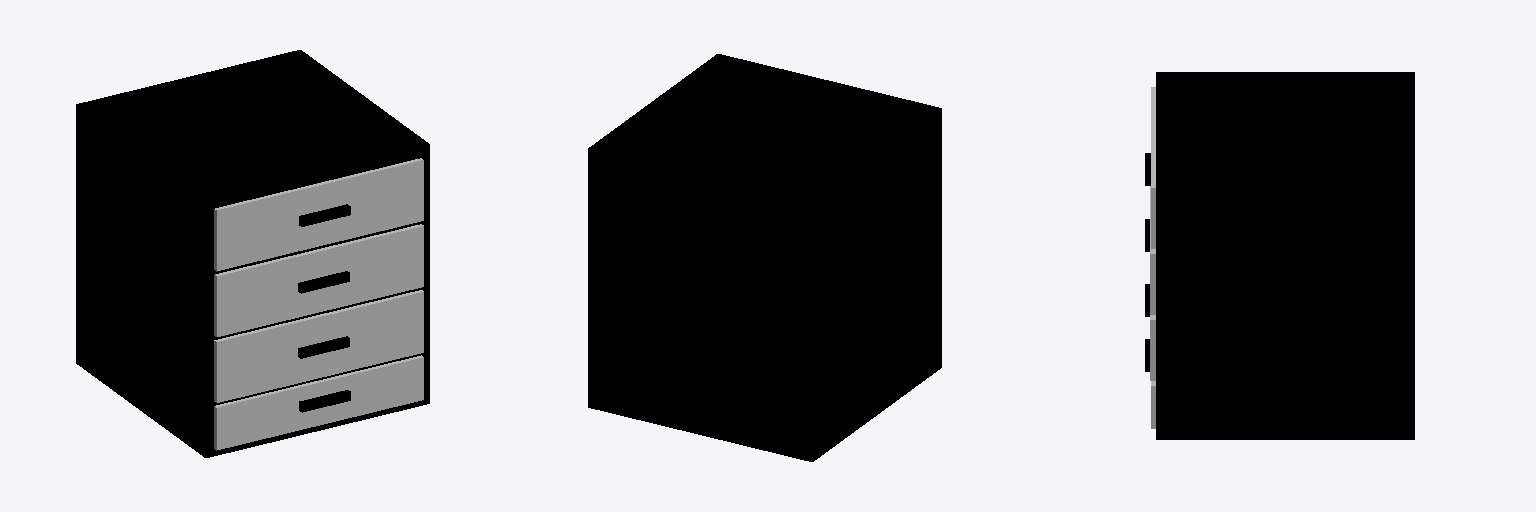
File: mueble.obj
3 views of the same model, side by side, from view 1: azimuth 30°, elevation 25°; view 2: azimuth 150°, elevation 25°; view 3: azimuth 270°, elevation 25° (orthographic).
Parts seen in each view (by area): view 1: Cubo, Cubo.002_Cubo.006, Cubo.001_Cubo.005, Cubo.004_Cubo.009, Cubo.003_Cubo.007, Cubo.005_Cubo.008, Cubo.008_Cubo.012, Cubo.006_Cubo.010, Cubo.007_Cubo.011; view 2: Cubo; view 3: Cubo, Cubo.004_Cubo.009.
Boxes of the visible parts, <box> form: Cubo: <box>76,50,429,457</box>; Cubo.002_Cubo.006: <box>214,290,423,402</box>; Cubo.001_Cubo.005: <box>214,224,423,336</box>; Cubo.004_Cubo.009: <box>214,158,423,271</box>; Cubo.003_Cubo.007: <box>214,355,423,450</box>; Cubo.005_Cubo.008: <box>299,204,350,226</box>; Cubo.008_Cubo.012: <box>299,390,350,412</box>; Cubo.006_Cubo.010: <box>298,271,349,293</box>; Cubo.007_Cubo.011: <box>298,336,349,358</box>; Cubo: <box>588,54,941,461</box>; Cubo: <box>1156,72,1414,439</box>; Cubo.004_Cubo.009: <box>1151,87,1155,248</box>.
Size of the model in its own units: 2 by 2.21 by 2.08.